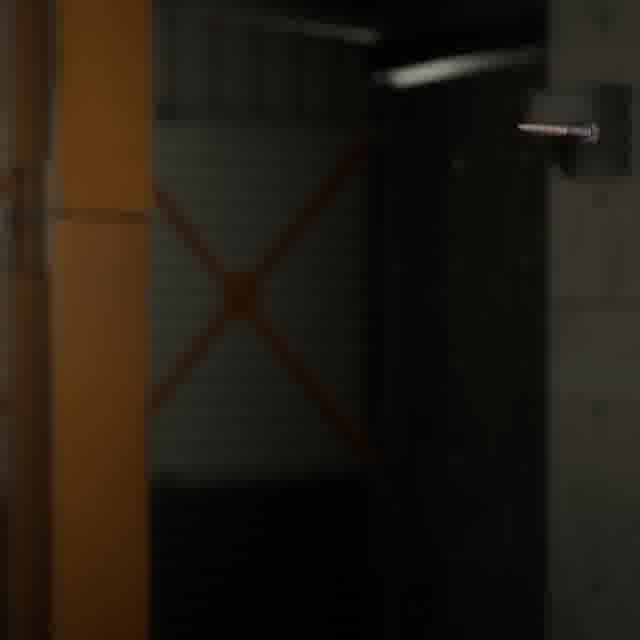bolt: (512, 118, 603, 147)
